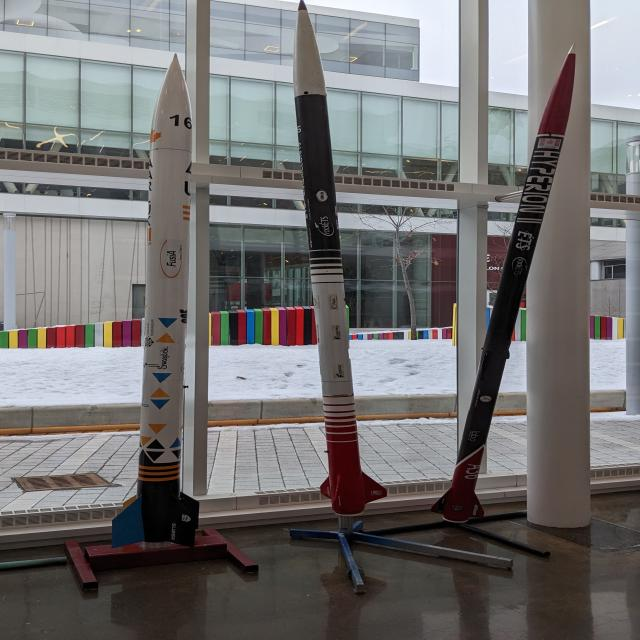Rocket: (431, 43, 576, 523), (292, 0, 387, 518), (111, 53, 200, 549)
